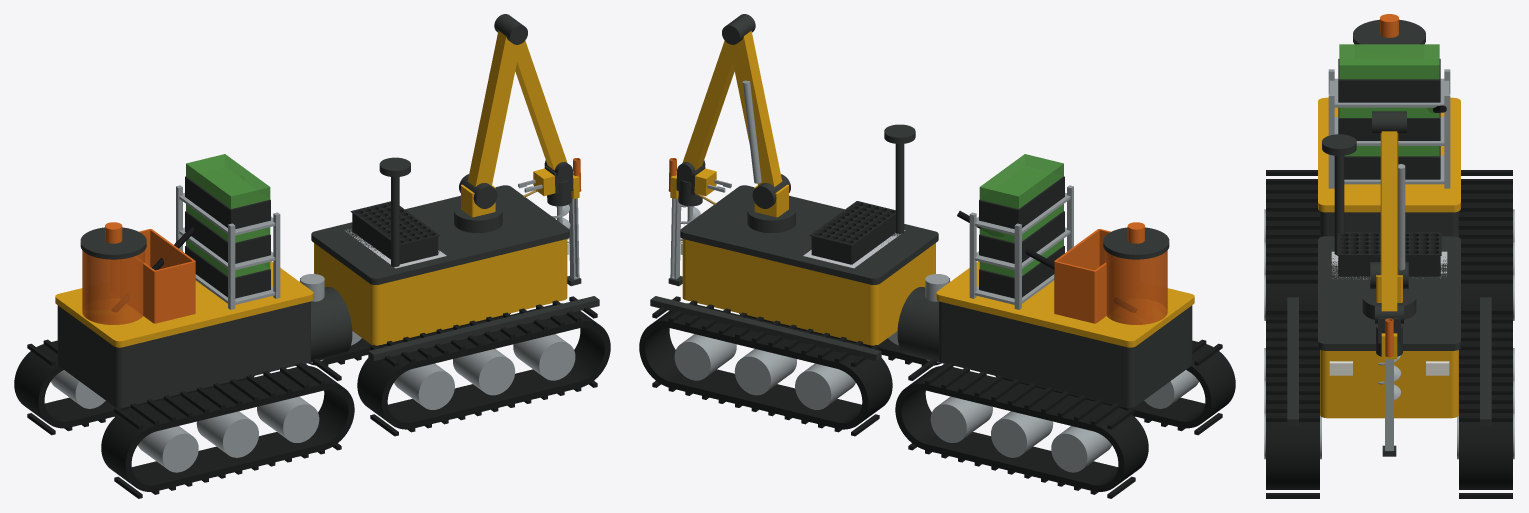
The model's file is pahadi.glb.
3 views of the same model, side by side, from view 1: azimuth 30°, elevation 25°; view 2: azimuth 150°, elevation 25°; view 3: azimuth 270°, elevation 25° (orthographic). The views are drawn at different scales.
Parts seen in each view (by area): view 1: chassis_0 (×2), top_plate_1 (×2), track_right_3, road_wheel_0 (×7), track_right_5, beam_1 (×2), track_left_2, amendment_bin_9, hopper_5, magazine_4, active_tray_8, spare_canopy_2_18 (+11 smaller); view 2: chassis_0 (×2), track_left_2, top_plate_1 (×2), road_wheel_0 (×7), track_left_4, beam_1 (×2), track_right_3, amendment_bin_9, hopper_5, active_tray_8, magazine_4, spare_canopy_2_18 (+12 smaller); view 3: top_plate_1 (×2), chassis_0 (×2), track_left_4, track_right_5, track_left_2, track_right_3, beam_1 (×2), spare_canopy_2_18, magazine_4, active_tray_8, track_frames_6, spare_tray_2_17 (+18 smaller).
Part boxes in pixels (box(x1,y1,x2,y2)): chassis_0 (×2): box(57, 239, 567, 407); top_plate_1 (×2): box(55, 185, 569, 347); track_right_3: box(101, 359, 354, 498); road_wheel_0 (×7): box(51, 334, 575, 472); track_right_5: box(357, 296, 610, 436); beam_1 (×2): box(467, 30, 567, 186); track_left_2: box(14, 339, 254, 435); amendment_bin_9: box(120, 229, 195, 323); hopper_5: box(82, 250, 144, 324); magazine_4: box(176, 185, 280, 309); active_tray_8: box(350, 201, 440, 264); spare_canopy_2_18: box(186, 154, 270, 208); chassis_0 (×2): box(682, 239, 1192, 407); track_left_2: box(895, 359, 1148, 498); top_plate_1 (×2): box(680, 185, 1194, 347); road_wheel_0 (×7): box(674, 334, 1198, 472); track_left_4: box(639, 296, 892, 436); beam_1 (×2): box(682, 30, 782, 186); track_right_3: box(995, 339, 1235, 435); amendment_bin_9: box(1054, 229, 1129, 323); hopper_5: box(1105, 250, 1167, 324); active_tray_8: box(809, 201, 896, 264); magazine_4: box(969, 185, 1073, 309); spare_canopy_2_18: box(979, 154, 1063, 208); top_plate_1 (×2): box(1318, 97, 1460, 350); chassis_0 (×2): box(1320, 211, 1458, 418); track_left_4: box(1459, 308, 1512, 498); track_right_5: box(1266, 308, 1319, 498); track_left_2: box(1459, 170, 1512, 317); track_right_3: box(1266, 170, 1319, 317); beam_1 (×2): box(1380, 131, 1398, 311); spare_canopy_2_18: box(1339, 44, 1439, 79); magazine_4: box(1328, 69, 1450, 188); active_tray_8: box(1337, 232, 1441, 276); track_frames_6: box(1287, 297, 1491, 426); spare_tray_2_17: box(1338, 59, 1440, 102).
Size of the model in its own units: 3390 by 2117 by 1300.
